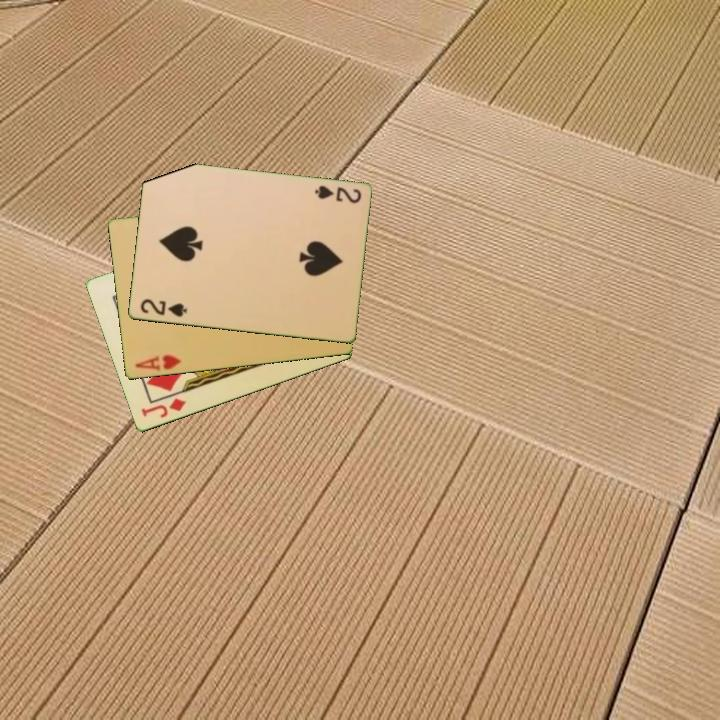2s: (136, 295, 190, 320), (311, 182, 364, 206)
Ah: (131, 352, 184, 375)
Jd: (138, 395, 189, 421)
